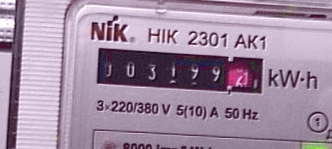0: (100, 57, 113, 78), (123, 58, 136, 78)
1: (167, 59, 178, 78)
3: (145, 61, 156, 80)
6: (234, 72, 244, 89)
9: (188, 60, 199, 80), (209, 63, 220, 82)
screen: (89, 43, 272, 101)
